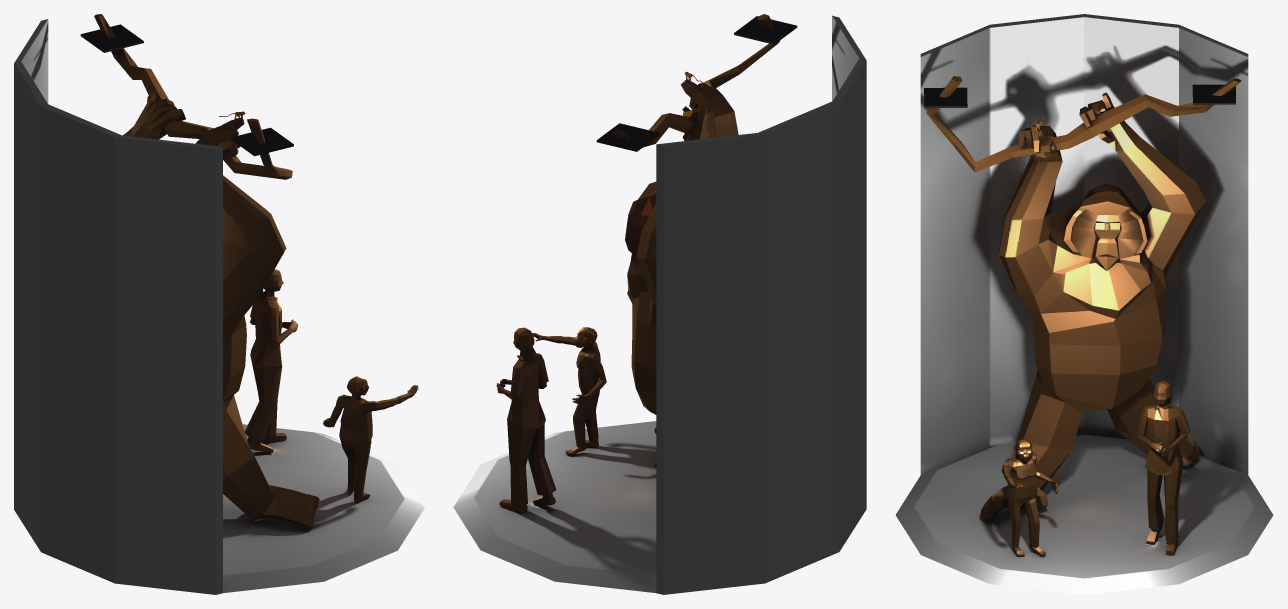
Rendered from centerpiece.glb.
3 renders of one model, left to right at view 1: azimuth 30°, elevation 25°; view 2: azimuth 150°, elevation 25°; view 3: azimuth 270°, elevation 25°, orthographic. The views are drawn at different scales.
Visible parts, largest first — view 1: Stage; view 2: Stage; view 3: Stage.
Boxes of the visible parts, x1=… form: Stage: x1=14, y1=14, x2=424, y2=594; Stage: x1=453, y1=14, x2=866, y2=594; Stage: x1=895, y1=14, x2=1273, y2=594.
Bounding box in the file's own units: 3.5 × 4.2 × 3.42.
Materials: 2 (2 with a texture image).
